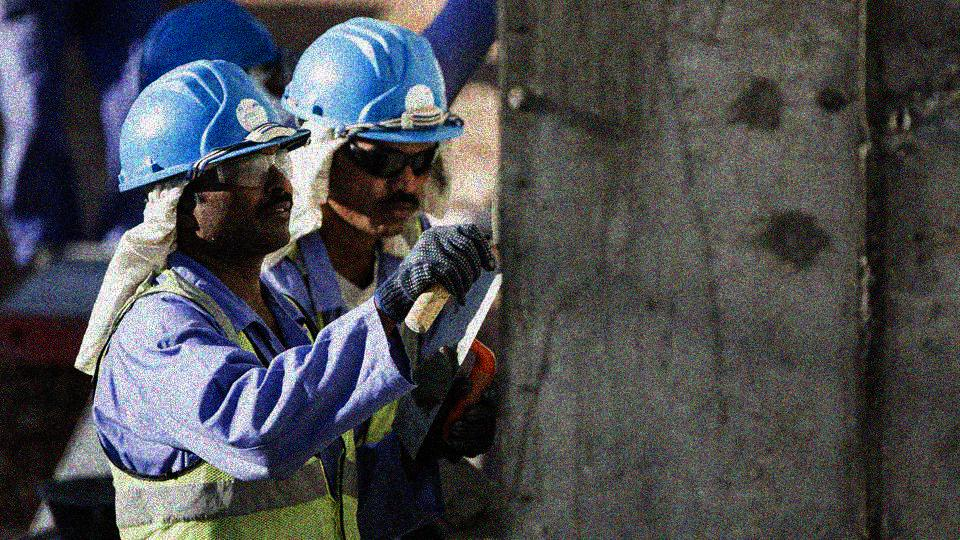helmet: (283, 14, 466, 240), (115, 57, 308, 257), (136, 1, 290, 98)
